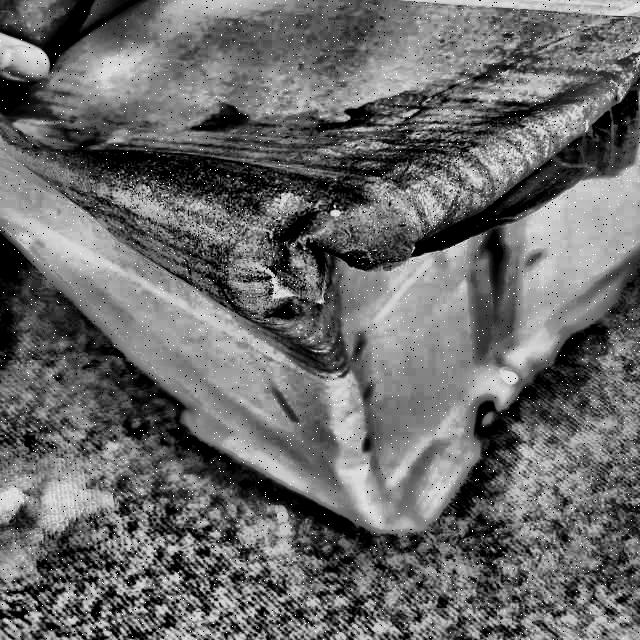box: (0, 1, 639, 538)
wet: (32, 80, 512, 353)
